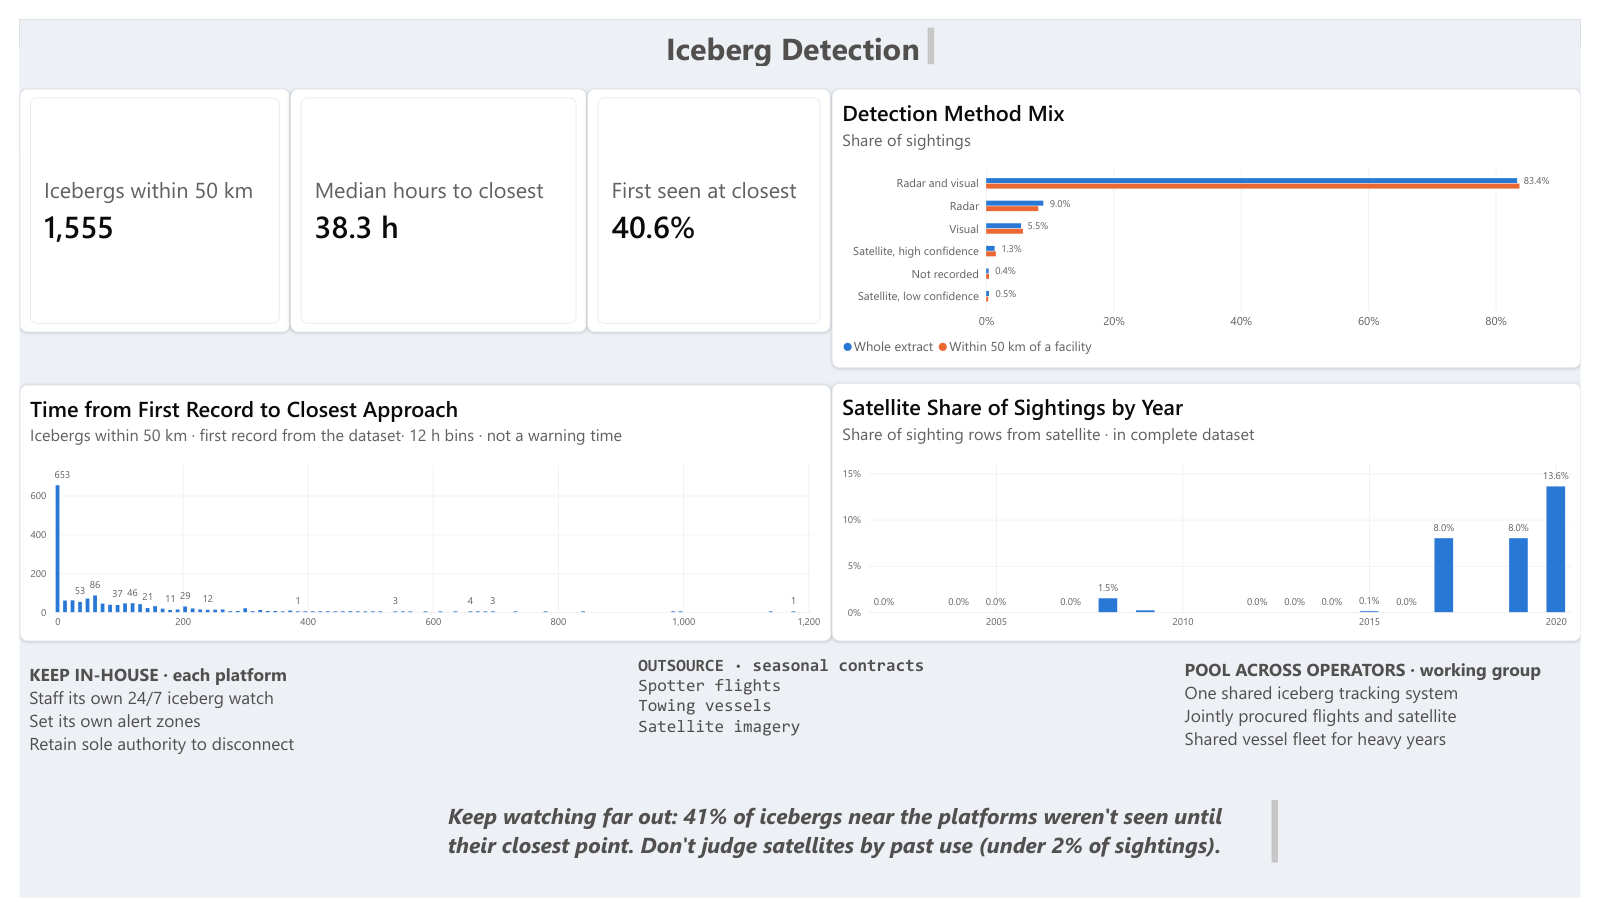

What the dashboard file says about the page in this screenshot:
{"tool":"powerbi","page":{"name":"3 Detection","canvas":[1920,1080],"ordinal":2},"visuals":[{"type":"textbox","box":[783.3,0,353.3,66.7],"z":0},{"type":"cardVisual","fields":{"Data":["_Measures.Icebergs within 50 km"]},"box":[0,84.8,333.3,300],"z":1},{"type":"cardVisual","fields":{"Data":["_Measures.Median hours to closest"]},"box":[332.9,84.8,365,300],"z":2},{"type":"cardVisual","title":"First seen at closest point","fields":{"Data":["_Measures.First seen at closest"]},"box":[698.3,84.8,300,300],"z":3},{"type":"clusteredBarChart","title":"Detection Method Mix","fields":{"Category":["s3_method_mix.method_group"],"Series":["s3_method_mix.scope"],"Y":["Sum(s3_method_mix.row_share)"]},"box":[998.8,84.8,921.8,343.7],"z":4},{"type":"clusteredColumnChart","title":"Time from First Record to Closest Approach","fields":{"Category":["s3_hours_first_to_closest.hours (bins)"],"Y":["CountNonNull(s3_hours_first_to_closest.iceberg_id)"]},"box":[0,448.6,998.8,316],"z":5},{"type":"clusteredColumnChart","title":"Satellite Share of Sightings by Year","fields":{"Category":["s3_satellite_by_year.iceberg_year"],"Y":["Sum(s3_satellite_by_year.satellite_share)"]},"box":[998.8,447,921.8,317.5],"z":6},{"type":"textbox","box":[0,781.4,555.7,180],"z":7},{"type":"textbox","box":[749.1,770.7,517.9,178.8],"z":8},{"type":"textbox","box":[1421.2,775.3,499.4,186.5],"z":9},{"type":"textbox","box":[514.8,949.5,1045.1,103.3],"z":10}]}

Visuals, with their boxes in screenshot pixels (x1, y1, x2, y2), scaled from the page's 1920x1080 canvas onto the 1600x918 screenshot:
textbox: [left=653, top=0, right=947, bottom=57]
cardVisual - _Measures.Icebergs within 50 km: [left=0, top=72, right=278, bottom=327]
cardVisual - _Measures.Median hours to closest: [left=277, top=72, right=582, bottom=327]
"First seen at closest point" cardVisual: [left=582, top=72, right=832, bottom=327]
"Detection Method Mix" clusteredBarChart: [left=832, top=72, right=1599, bottom=364]
"Time from First Record to Closest Approach" clusteredColumnChart: [left=0, top=381, right=832, bottom=650]
"Satellite Share of Sightings by Year" clusteredColumnChart: [left=832, top=380, right=1599, bottom=650]
textbox: [left=0, top=664, right=463, bottom=817]
textbox: [left=624, top=655, right=1056, bottom=807]
textbox: [left=1184, top=659, right=1599, bottom=818]
textbox: [left=429, top=807, right=1300, bottom=895]
